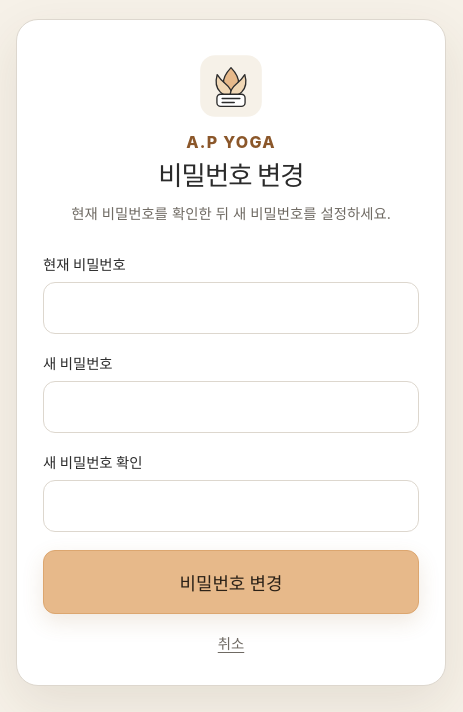
Test: password-change view › rejects a confirmation mismatch without a request and clears every password
The image size is (463, 712).
Type "test-password" into the password field named "currentPassword".
click(231, 308); type("test-password")  # box [43,282,419,334]
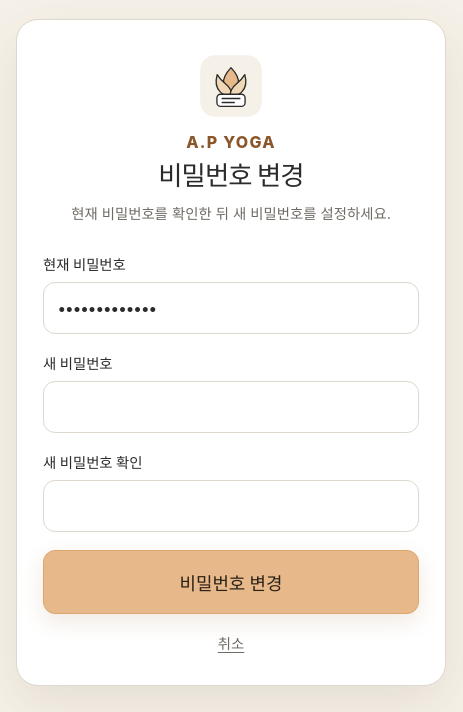
Type "new-password-123" into the password field named "newPassword".
click(231, 406); type("new-password-123")  # box [43,380,419,432]
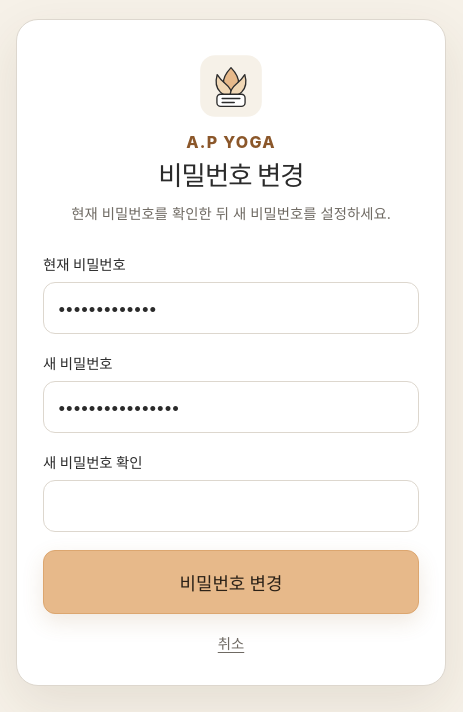
Type "different-password" into the password field named "confirmPassword".
click(231, 506); type("different-password")  # box [43,480,419,532]
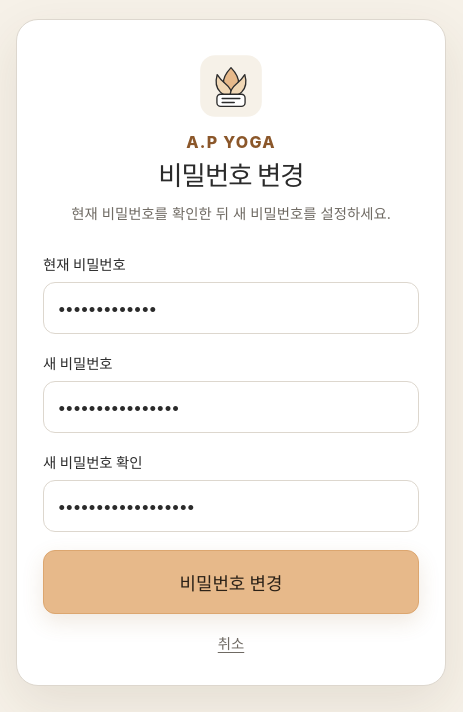
Submit the form, box [43,252,419,652]
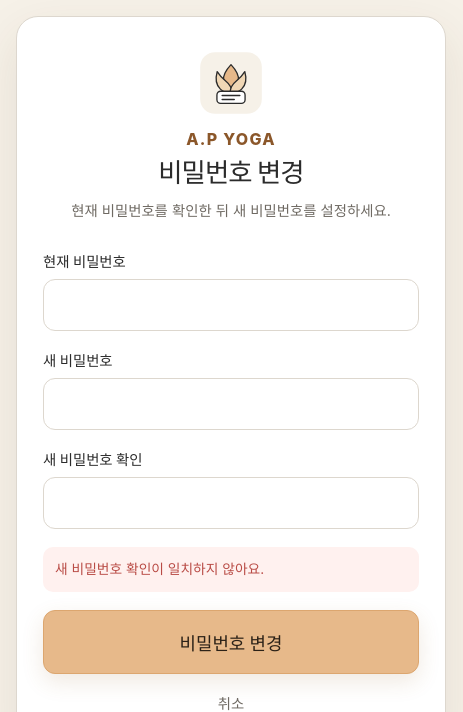
Result: the message "새 비밀번호 확인이 일치하지 않아요." is shown at [43,547,419,592]
